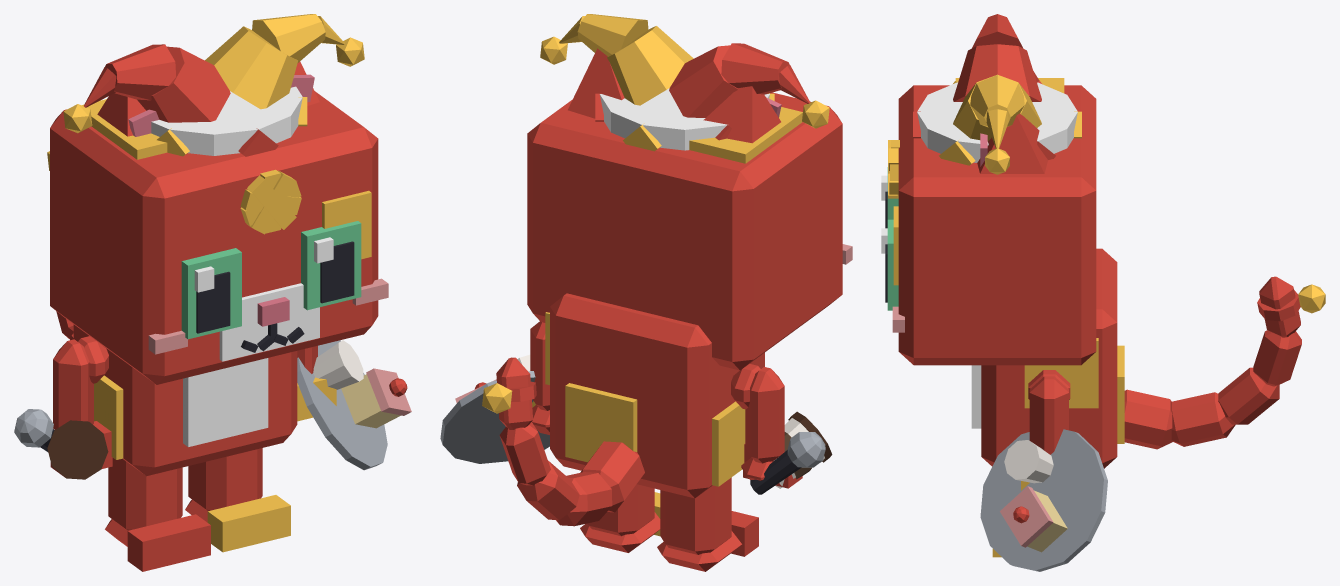
The model's file is CatCafe_Cat_Jester_Work.fbx.
3 renders of one model, left to right at view 1: azimuth 30°, elevation 25°; view 2: azimuth 150°, elevation 25°; view 3: azimuth 270°, elevation 25°, orthographic. The views are drawn at different scales.
Parts seen in each view (by area): view 1: CatCafe_Cat_Jester_Work_Head, CatCafe_Cat_Jester_Work_Prop, CatCafe_Cat_Jester_Work_Body, CatCafe_Cat_Jester_Work_Held_Waiter, CatCafe_Cat_Jester_Work_LegB2, CatCafe_Cat_Jester_Work_LegB1, CatCafe_Cat_Jester_Work_Eye2, CatCafe_Cat_Jester_Work_Eye1, CatCafe_Cat_Jester_Work_LegF2, CatCafe_Cat_Jester_Work_Held_Barista, CatCafe_Cat_Jester_Work_EarR, CatCafe_Cat_Jester_Work_Held_Entertainer (+2 smaller); view 2: CatCafe_Cat_Jester_Work_Head, CatCafe_Cat_Jester_Work_Body, CatCafe_Cat_Jester_Work_Prop, CatCafe_Cat_Jester_Work_Tail, CatCafe_Cat_Jester_Work_LegB2, CatCafe_Cat_Jester_Work_Held_Waiter, CatCafe_Cat_Jester_Work_LegF2, CatCafe_Cat_Jester_Work_LegB1, CatCafe_Cat_Jester_Work_EarR, CatCafe_Cat_Jester_Work_Held_Entertainer, CatCafe_Cat_Jester_Work_EarL, CatCafe_Cat_Jester_Work_LegF1 (+2 smaller); view 3: CatCafe_Cat_Jester_Work_Head, CatCafe_Cat_Jester_Work_Prop, CatCafe_Cat_Jester_Work_Held_Waiter, CatCafe_Cat_Jester_Work_Body, CatCafe_Cat_Jester_Work_Tail, CatCafe_Cat_Jester_Work_LegF1, CatCafe_Cat_Jester_Work_EarL, CatCafe_Cat_Jester_Work_Tail_Bell, CatCafe_Cat_Jester_Work_Eye1.
Part boxes in pixels (left/top/right/bottom): CatCafe_Cat_Jester_Work_Head: left=50, top=91, right=388, bottom=384; CatCafe_Cat_Jester_Work_Prop: left=63, top=14, right=364, bottom=156; CatCafe_Cat_Jester_Work_Body: left=73, top=324, right=297, bottom=476; CatCafe_Cat_Jester_Work_Held_Waiter: left=297, top=340, right=411, bottom=470; CatCafe_Cat_Jester_Work_LegB2: left=105, top=458, right=210, bottom=571; CatCafe_Cat_Jester_Work_LegB1: left=185, top=448, right=290, bottom=552; CatCafe_Cat_Jester_Work_Eye2: left=181, top=248, right=241, bottom=339; CatCafe_Cat_Jester_Work_Eye1: left=301, top=221, right=361, bottom=310; CatCafe_Cat_Jester_Work_LegF2: left=50, top=339, right=112, bottom=477; CatCafe_Cat_Jester_Work_Held_Barista: left=47, top=420, right=108, bottom=479; CatCafe_Cat_Jester_Work_EarR: left=97, top=93, right=159, bottom=136; CatCafe_Cat_Jester_Work_Held_Entertainer: left=14, top=409, right=54, bottom=451; CatCafe_Cat_Jester_Work_Head: left=527, top=92, right=852, bottom=370; CatCafe_Cat_Jester_Work_Body: left=545, top=293, right=764, bottom=498; CatCafe_Cat_Jester_Work_Prop: left=540, top=14, right=829, bottom=151; CatCafe_Cat_Jester_Work_Tail: left=496, top=357, right=644, bottom=526; CatCafe_Cat_Jester_Work_LegB2: left=657, top=477, right=758, bottom=571; CatCafe_Cat_Jester_Work_Held_Waiter: left=440, top=354, right=549, bottom=463; CatCafe_Cat_Jester_Work_LegF2: left=741, top=367, right=802, bottom=488; CatCafe_Cat_Jester_Work_LegB1: left=580, top=484, right=660, bottom=552; CatCafe_Cat_Jester_Work_EarR: left=703, top=86, right=781, bottom=143; CatCafe_Cat_Jester_Work_Held_Entertainer: left=750, top=432, right=825, bottom=494; CatCafe_Cat_Jester_Work_EarL: left=568, top=48, right=624, bottom=118; CatCafe_Cat_Jester_Work_LegF1: left=530, top=321, right=549, bottom=434; CatCafe_Cat_Jester_Work_Head: left=888, top=78, right=1096, bottom=365; CatCafe_Cat_Jester_Work_Prop: left=913, top=14, right=1081, bottom=174; CatCafe_Cat_Jester_Work_Held_Waiter: left=980, top=429, right=1107, bottom=571; CatCafe_Cat_Jester_Work_Body: left=971, top=248, right=1124, bottom=468; CatCafe_Cat_Jester_Work_Tail: left=1124, top=276, right=1301, bottom=449; CatCafe_Cat_Jester_Work_LegF1: left=1021, top=376, right=1068, bottom=490; CatCafe_Cat_Jester_Work_EarL: left=977, top=113, right=1047, bottom=173; CatCafe_Cat_Jester_Work_Tail_Bell: left=1257, top=284, right=1325, bottom=321; CatCafe_Cat_Jester_Work_Eye1: left=881, top=219, right=898, bottom=310.
Size of the model in its own units: 1.53 by 2 by 1.71.
1 material, 1 textured.
